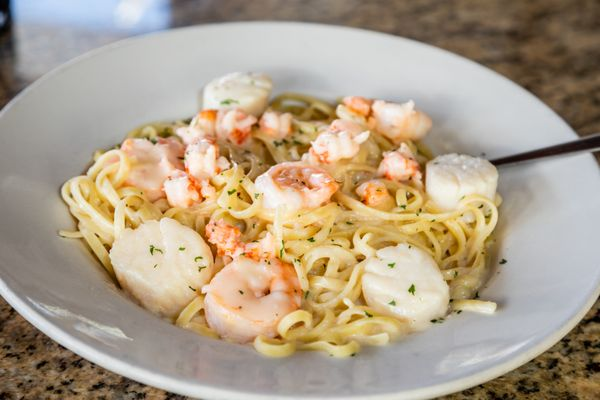sushi: (11, 16, 598, 391)
